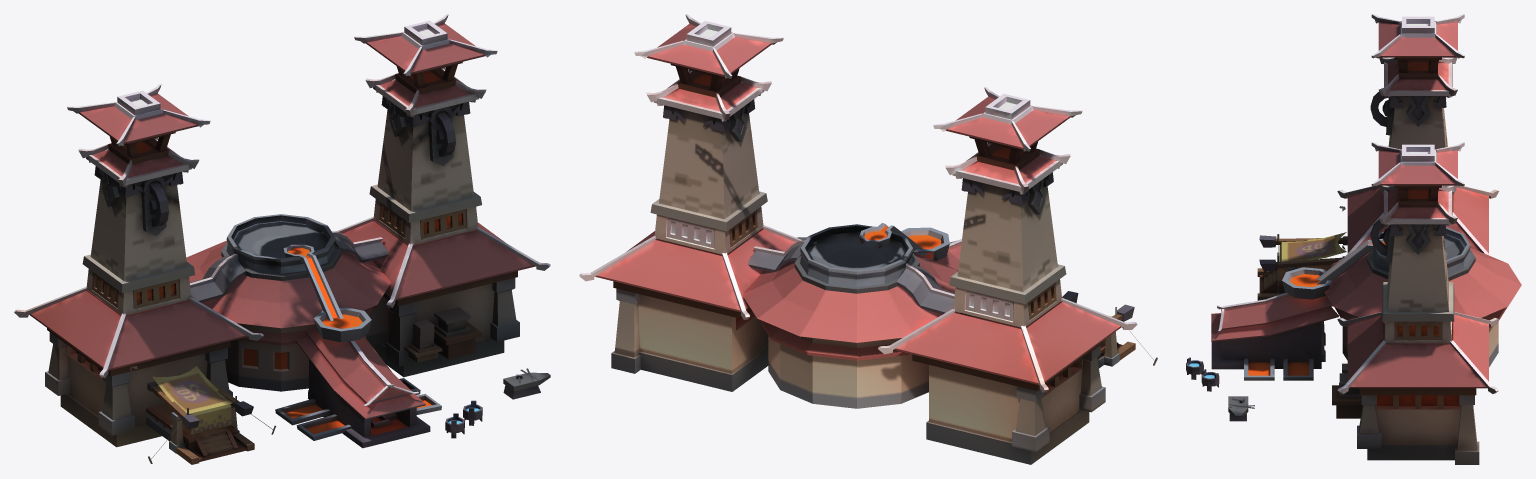
File: tiejiangpu.fbx
3 renders of one model, left to right at view 1: azimuth 30°, elevation 25°; view 2: azimuth 150°, elevation 25°; view 3: azimuth 270°, elevation 25°, orthographic. The views are drawn at different scales.
Parts seen in each view (by area): view 1: polySurface2445; view 2: polySurface2445; view 3: polySurface2445.
Part boxes in pixels (x1,y1,x2,y2): polySurface2445: (14, 14, 550, 464); polySurface2445: (579, 14, 1157, 464); polySurface2445: (1186, 14, 1521, 464).
Bounding box in the file's own units: 150 × 99.6 × 105.
1 material, 1 textured.
